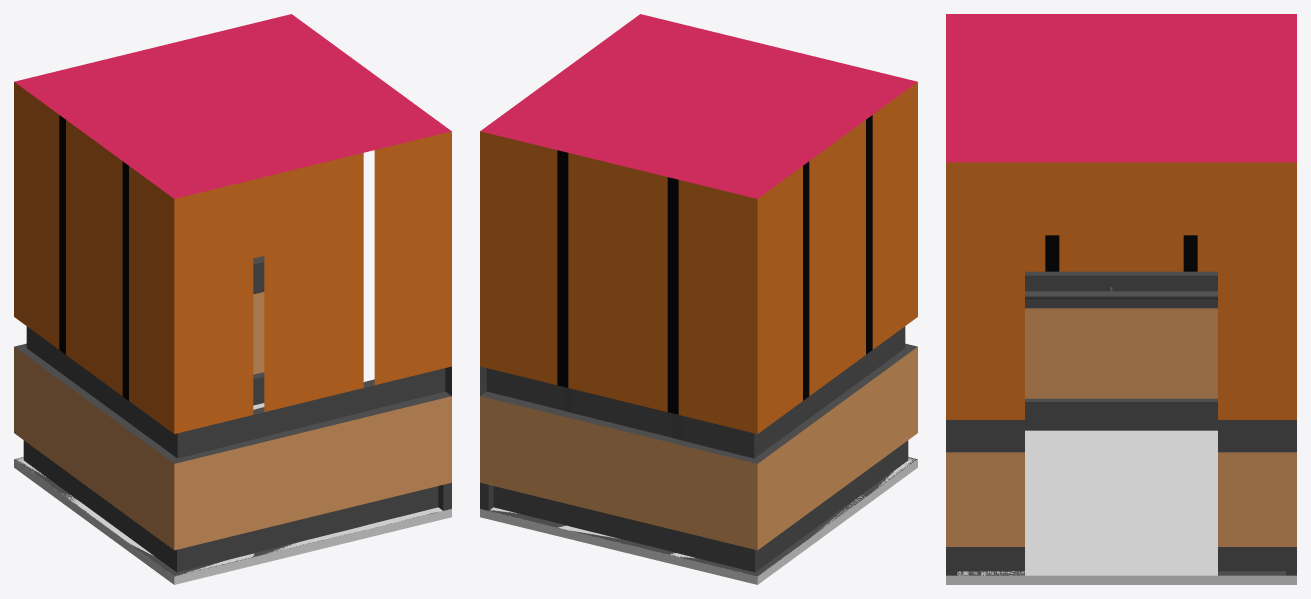
The model's file is Elevator.fbx.
3 views of the same model, side by side, from view 1: azimuth 30°, elevation 25°; view 2: azimuth 150°, elevation 25°; view 3: azimuth 270°, elevation 25° (orthographic). The views are drawn at different scales.
Parts seen in each view (by area): view 1: Elevator; view 2: Elevator; view 3: Elevator.
Part boxes in pixels (bbox=[...]): Elevator: bbox=[14, 14, 451, 584]; Elevator: bbox=[480, 14, 917, 584]; Elevator: bbox=[946, 14, 1296, 584].
Size of the model in its own units: 243 by 323 by 243.
